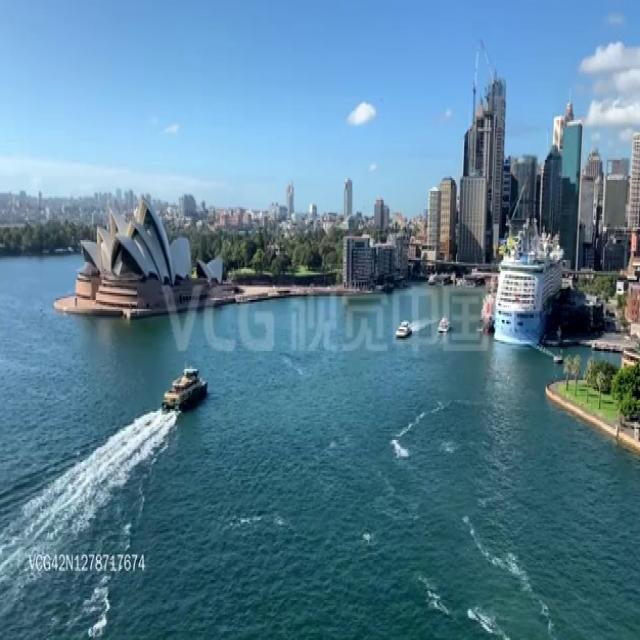houseboat: (160, 361, 209, 412), (393, 312, 412, 348), (433, 312, 453, 338)
passenger ship: (490, 221, 565, 348)
